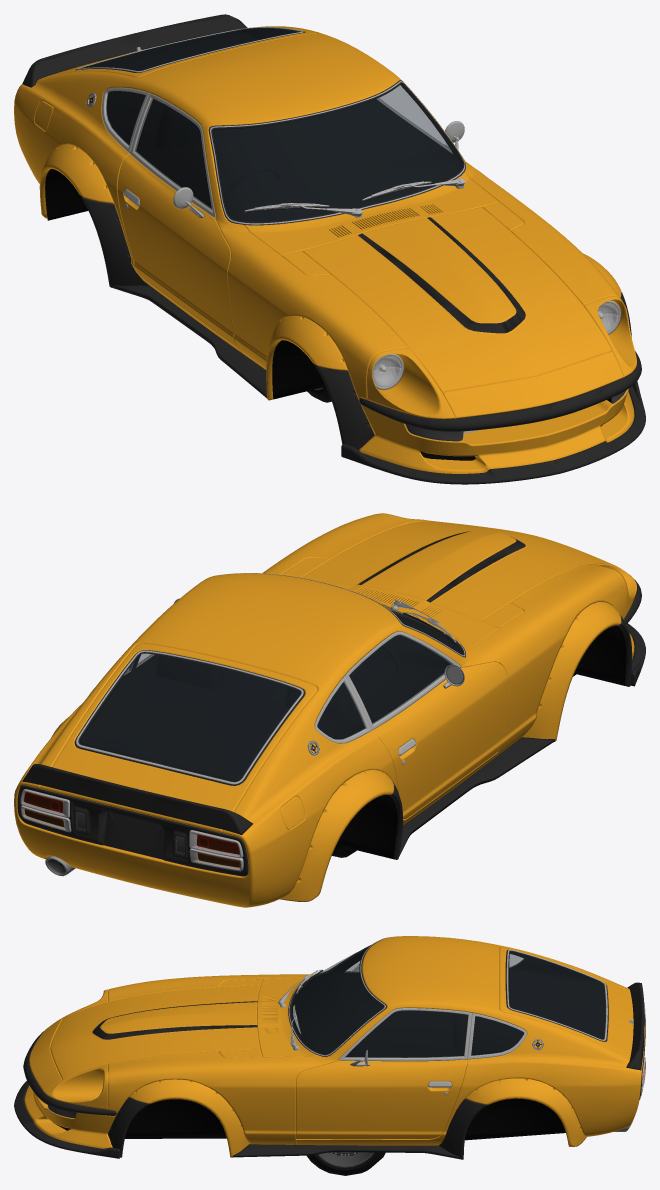
File: datsun-280z.glb
3 renders of one model, top to bottom at view 1: azimuth 30°, elevation 25°; view 2: azimuth 150°, elevation 25°; view 3: azimuth 270°, elevation 25°, orthographic. The views are drawn at different scales.
Parts seen in each view (by area): view 1: body; view 2: body; view 3: body, wheel.
Boxes of the visible parts, <box> form: body: <box>14,14,645,484</box>; body: <box>14,513,645,907</box>; body: <box>14,936,645,1159</box>; wheel: <box>307,1152,385,1175</box>.
Size of what is drawn, in the model's own units: 1.83 by 1.58 by 4.4.
Materials: 12 (3 with a texture image).
